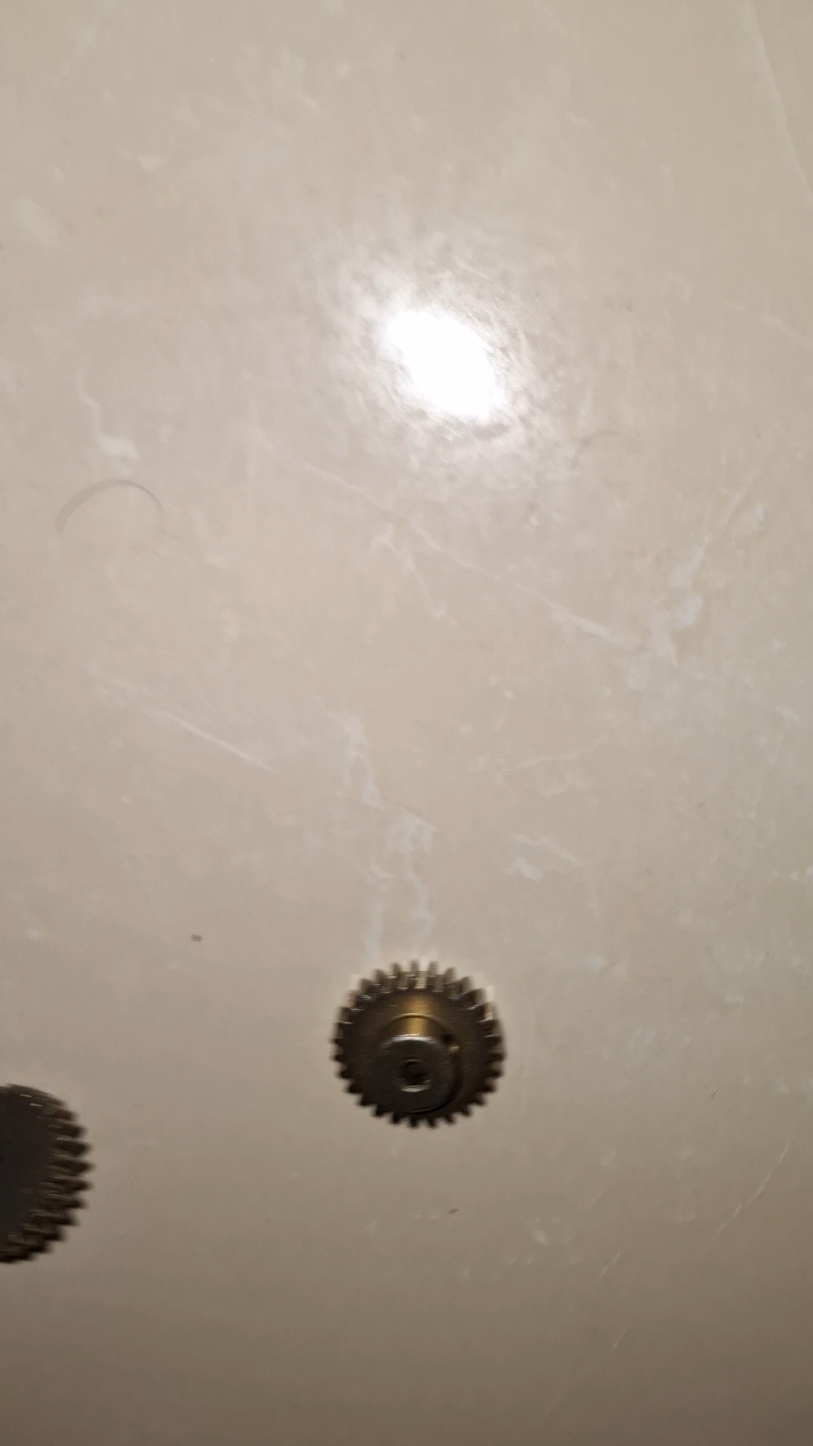spur gear: (333, 964, 504, 1125), (0, 1085, 89, 1262)
